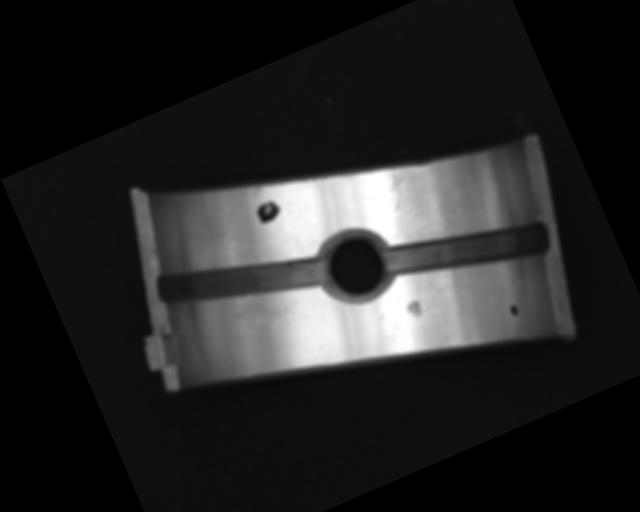blot: (252, 198, 283, 226), (507, 303, 521, 318)
bruise: (405, 297, 425, 321)
gap: (153, 216, 331, 345), (382, 193, 555, 312)
hole: (308, 221, 401, 315)
nick: (379, 167, 415, 213)
scratch: (203, 284, 288, 353)
